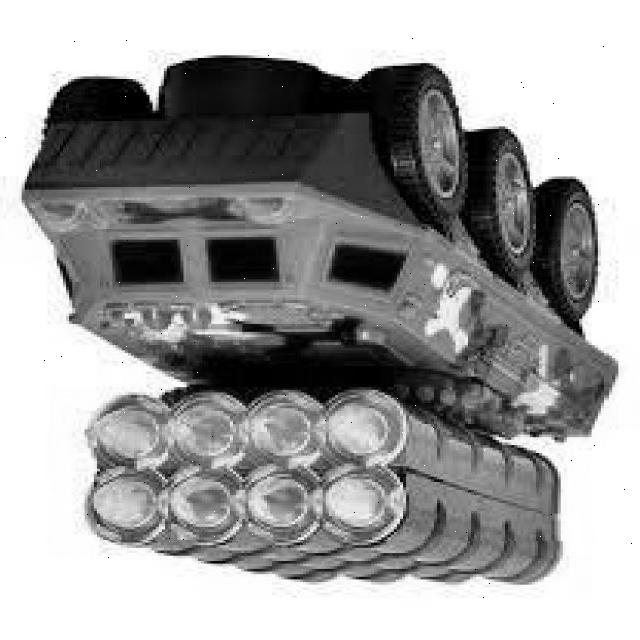MIL_MBT: (28, 86, 607, 541)
